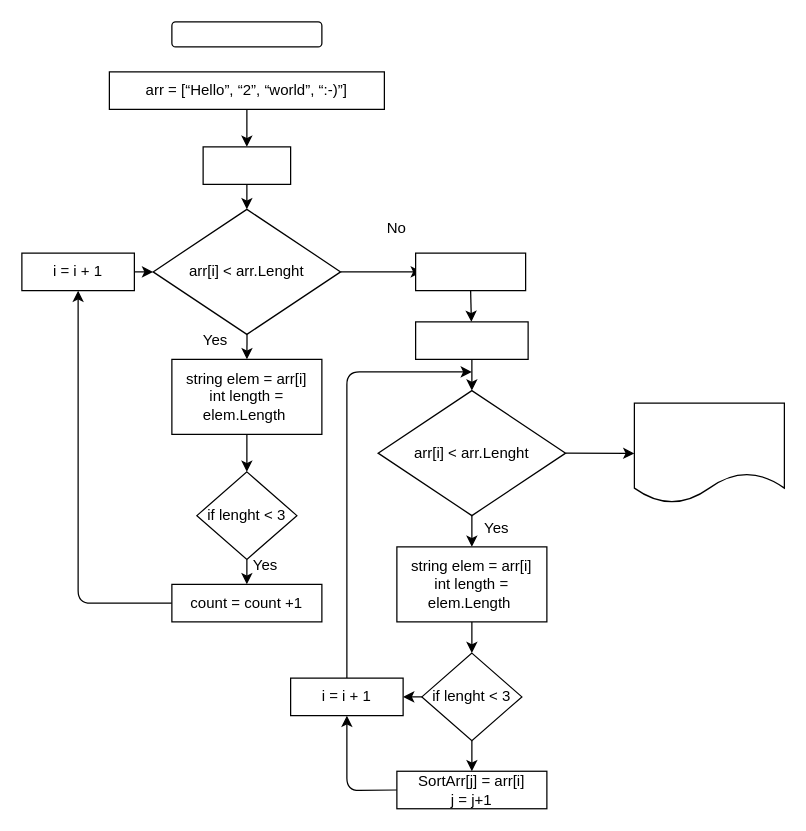
The diagram is 806 pixels wide and 831 high, and some of its shapes have lost their labels. Each missing label, with the centre of its shape:
"i = 0" goes at [246,165].
"int[] SortArr = new int[count]" goes at [470,271].
"j = 0" goes at [471,340].
"Начало" goes at [246,34].
"Отсортированный массив: SortArr" goes at [708,452].
